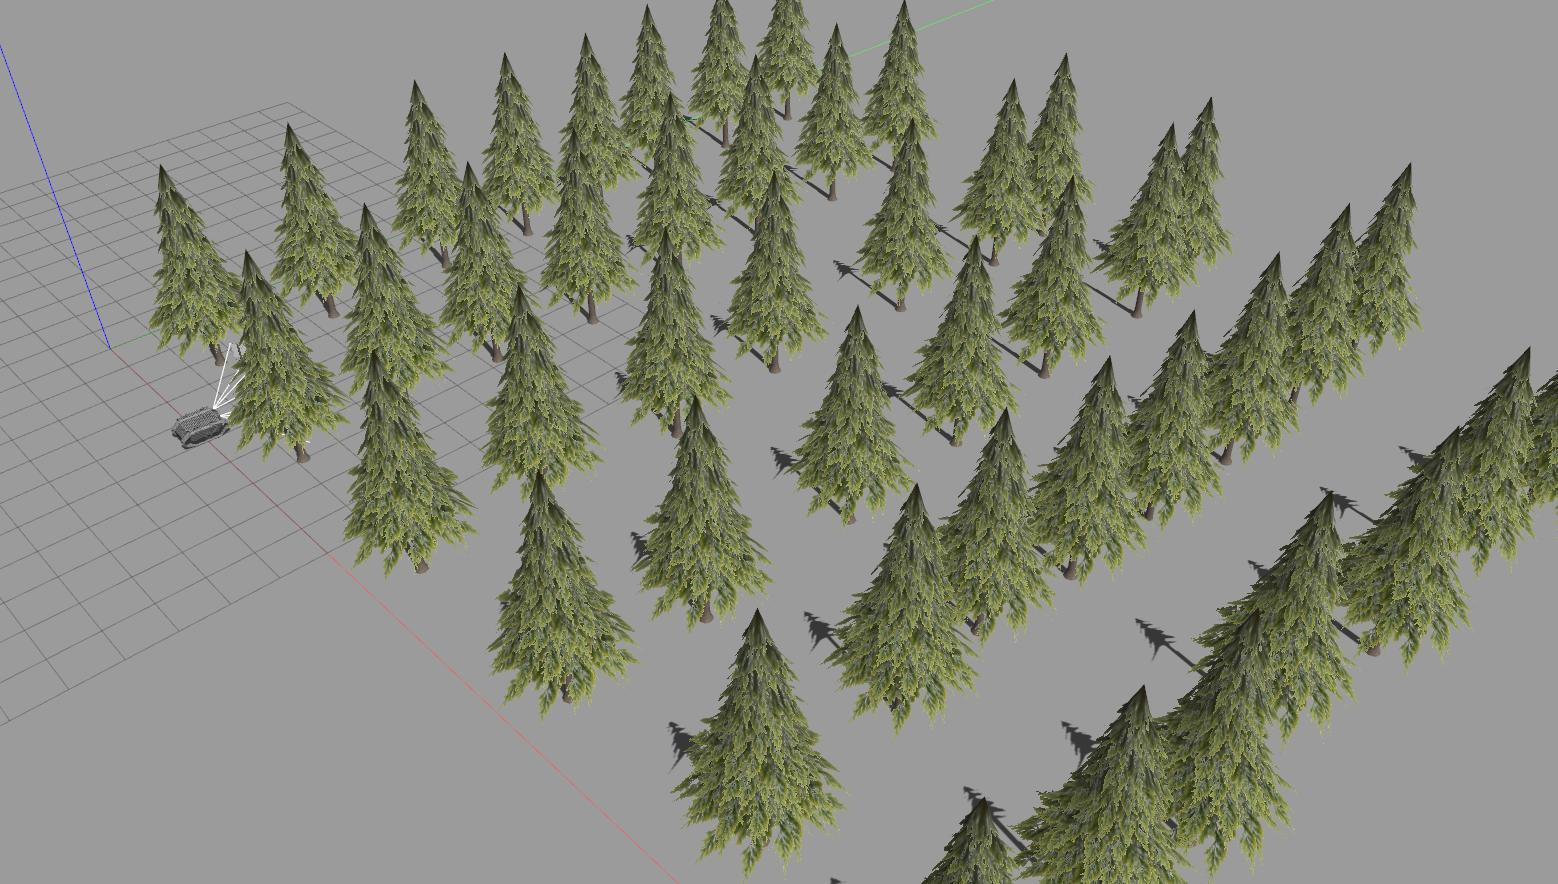tree_gazebo: (675, 612, 840, 874), (828, 487, 977, 729), (490, 477, 636, 715), (1020, 688, 1183, 883), (633, 398, 769, 625), (343, 356, 472, 574), (941, 411, 1053, 642), (794, 307, 910, 522), (1035, 356, 1144, 581), (228, 253, 343, 462), (906, 241, 1017, 443), (621, 238, 728, 437), (1002, 180, 1104, 378), (728, 173, 825, 375), (1129, 314, 1220, 523), (1208, 256, 1296, 466), (149, 167, 241, 364), (858, 122, 952, 309), (441, 165, 526, 362), (541, 146, 636, 322), (271, 125, 356, 318), (956, 82, 1041, 263), (1287, 207, 1363, 401), (633, 94, 721, 259), (794, 25, 873, 201), (393, 82, 462, 271), (484, 55, 556, 233), (1354, 165, 1421, 351), (861, 3, 937, 151), (1028, 55, 1093, 227), (718, 58, 785, 220), (925, 786, 1025, 884), (621, 6, 675, 158)
